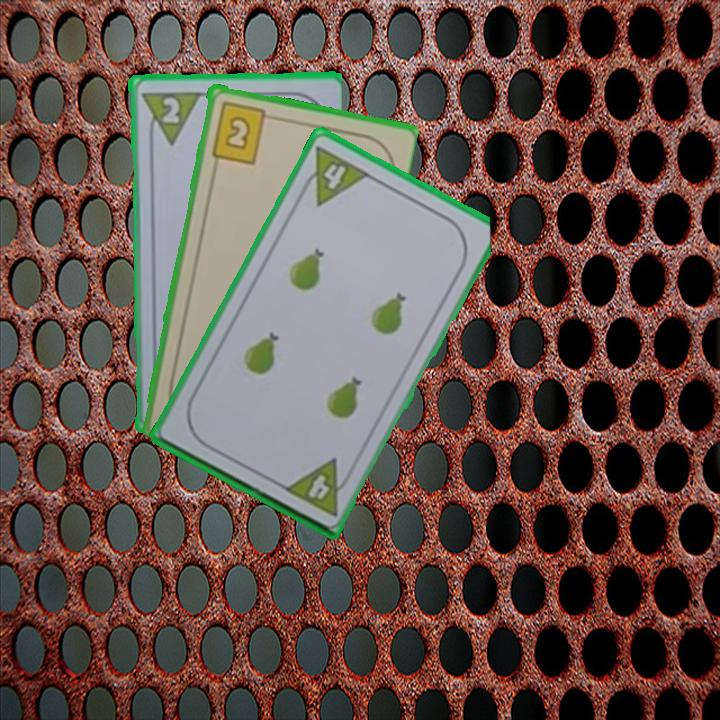2b: (207, 97, 277, 166)
2p: (158, 93, 182, 126)
4p: (295, 142, 373, 209), (280, 454, 356, 519)
